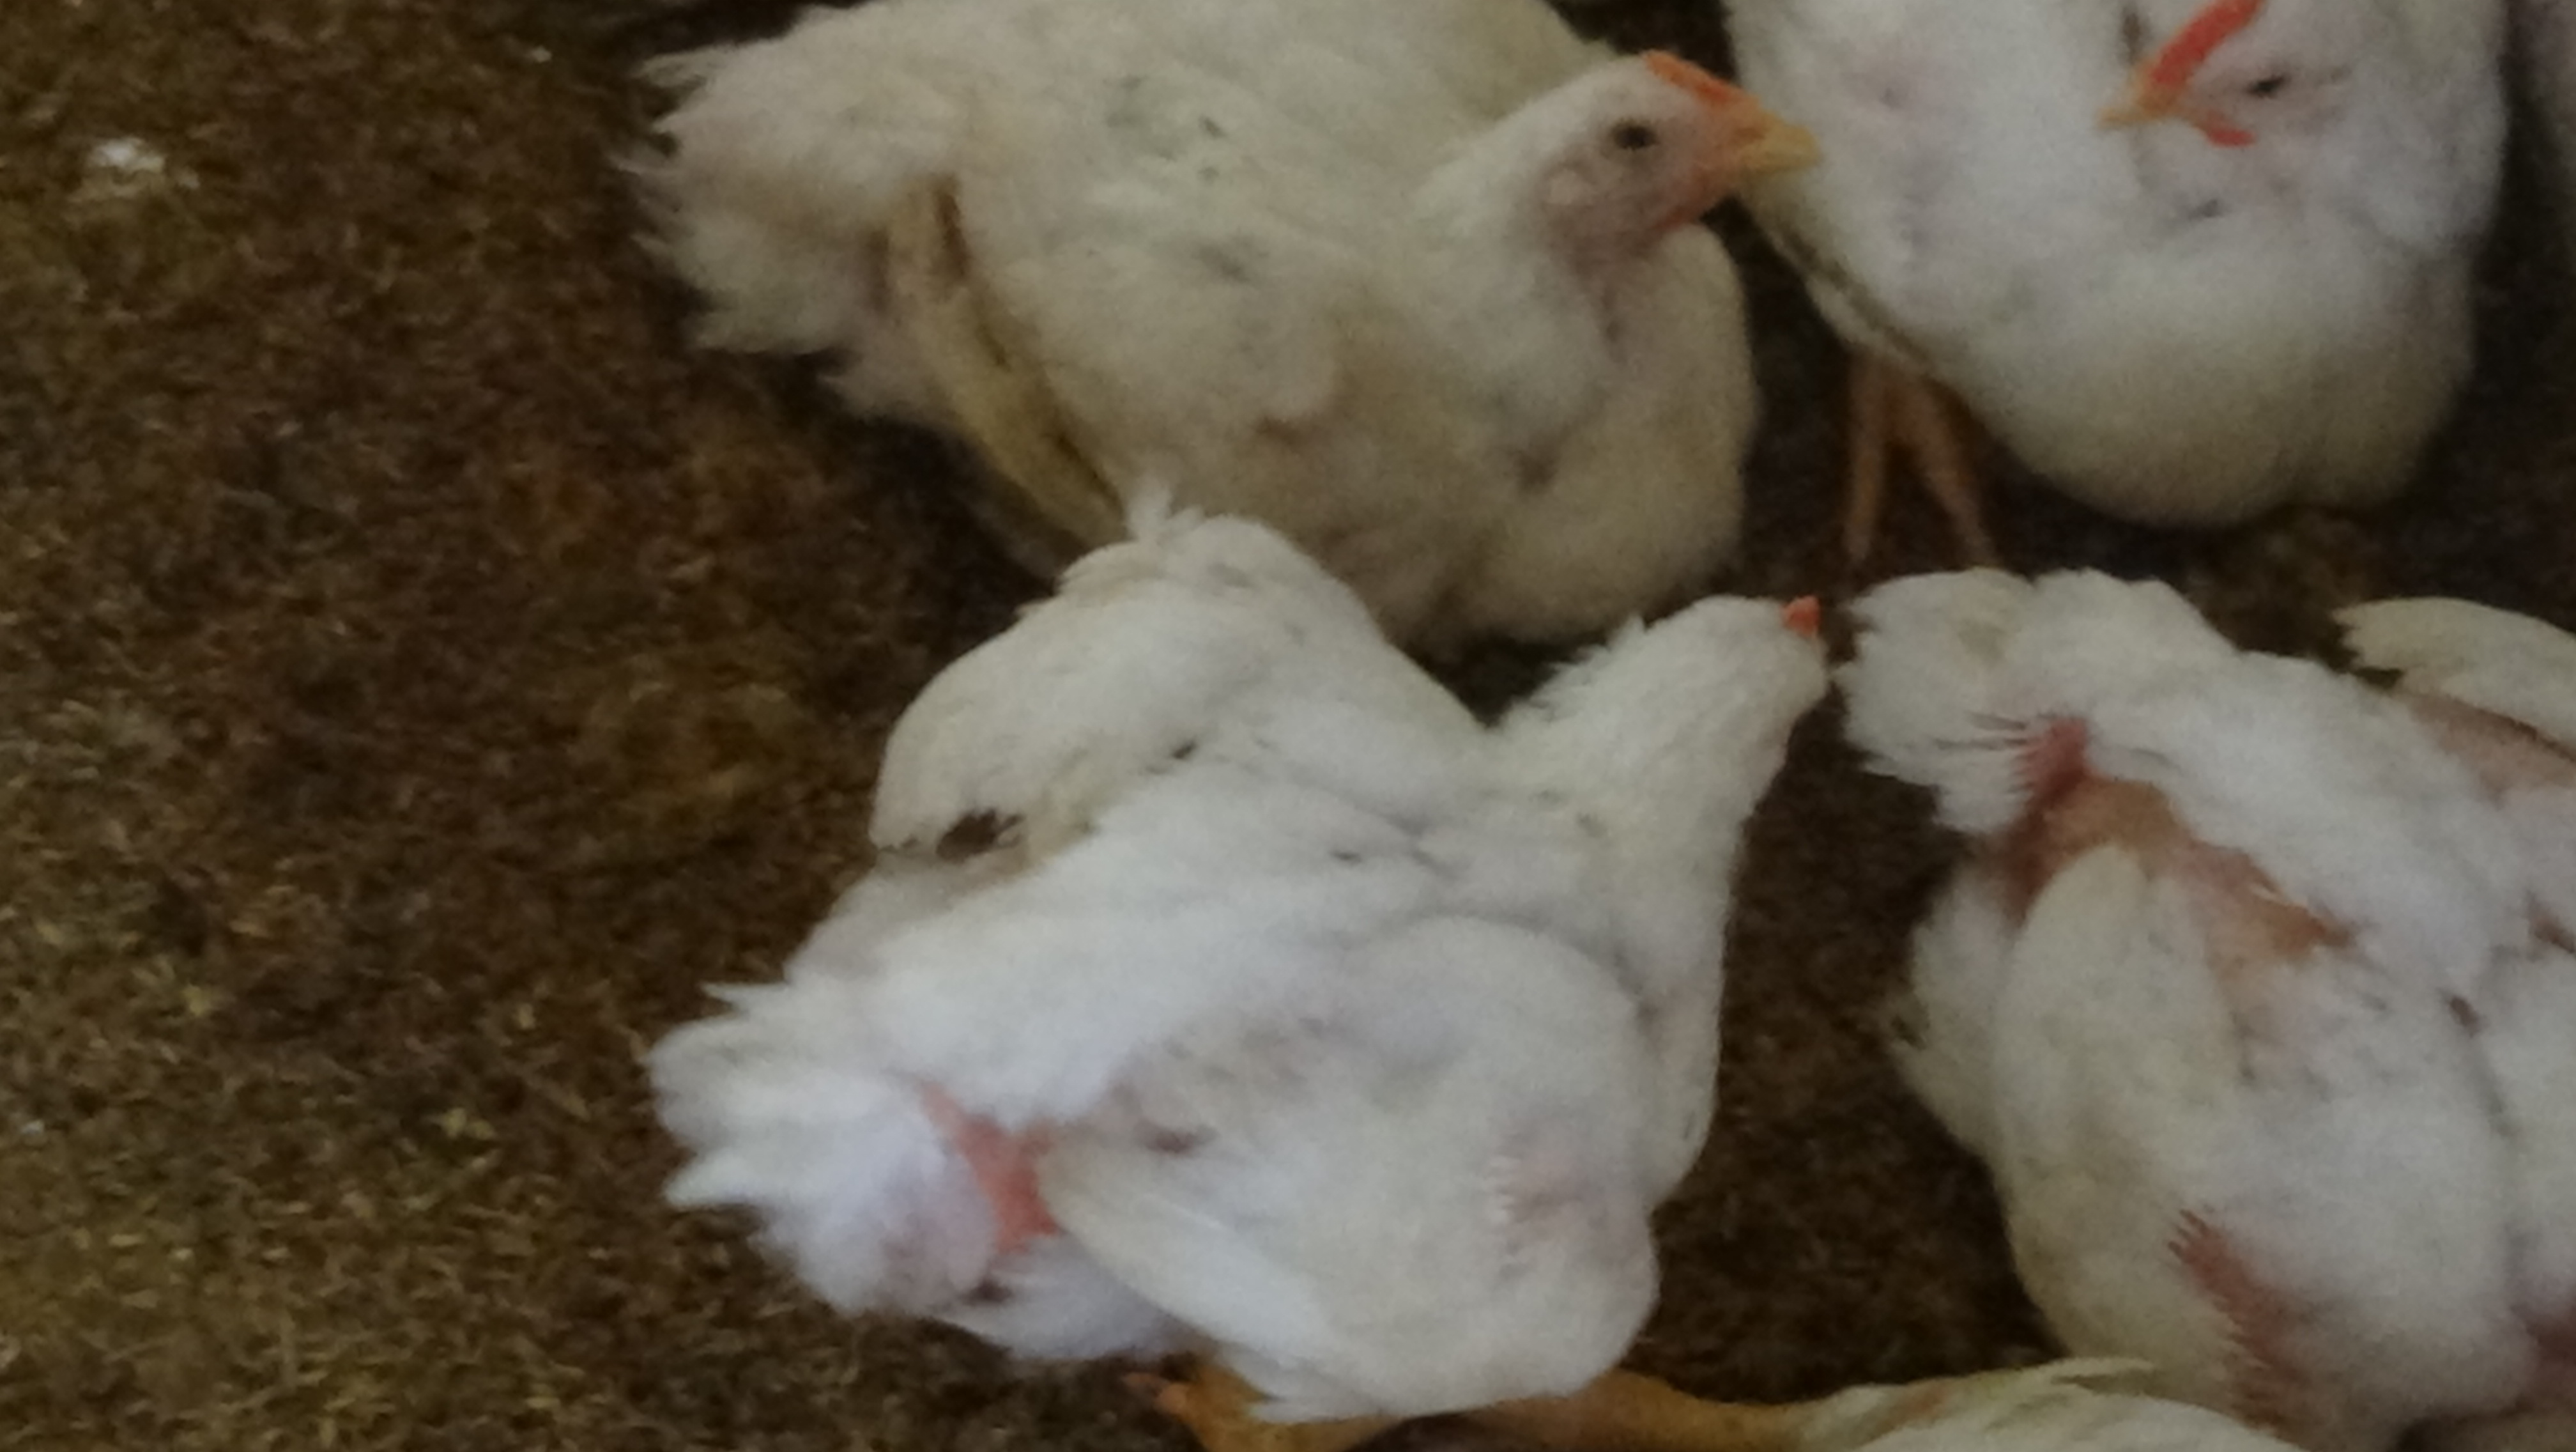Pollos: (672, 510, 1854, 1385), (635, 0, 1829, 620), (1872, 528, 2576, 1431), (1727, 0, 2528, 645)
